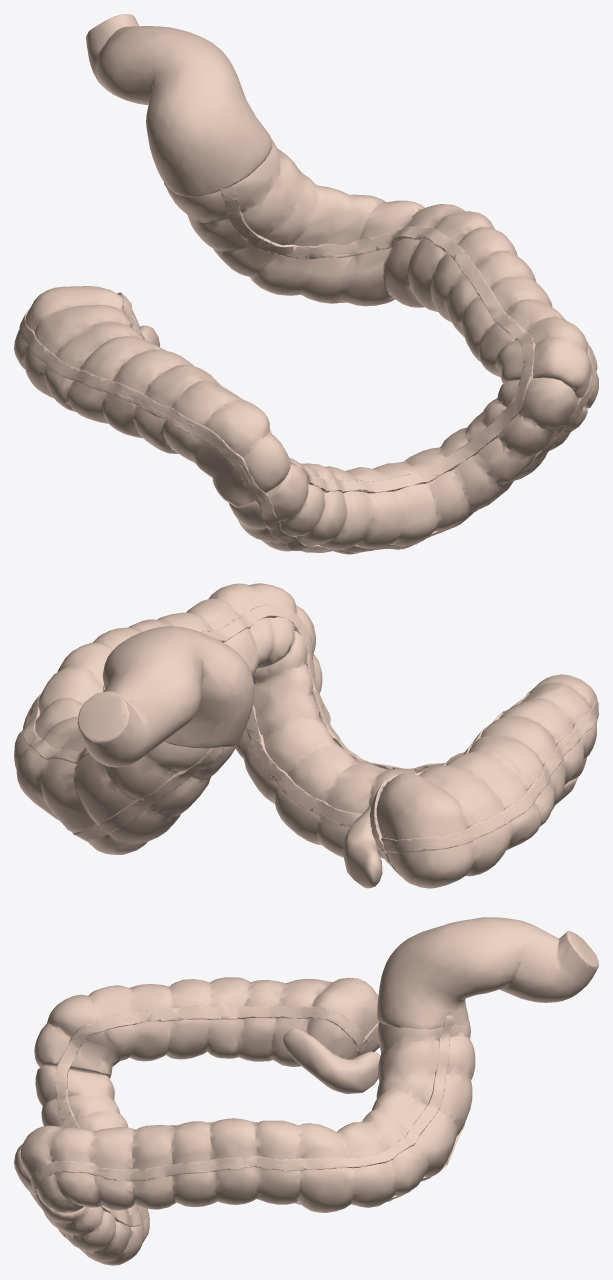
The model's file is large-intestine.glb.
3 renders of one model, top to bottom at view 1: azimuth 30°, elevation 25°; view 2: azimuth 150°, elevation 25°; view 3: azimuth 270°, elevation 25°, orthographic. The views are drawn at different scales.
Parts seen in each view (by area): view 1: large intestine; view 2: large intestine; view 3: large intestine.
Boxes of the visible parts, x1=… form: large intestine: x1=14, y1=14, x2=598, y2=554; large intestine: x1=14, y1=583, x2=598, y2=888; large intestine: x1=14, y1=917, x2=598, y2=1265.
Bounding box in the file's own units: 244 × 186 × 307.
